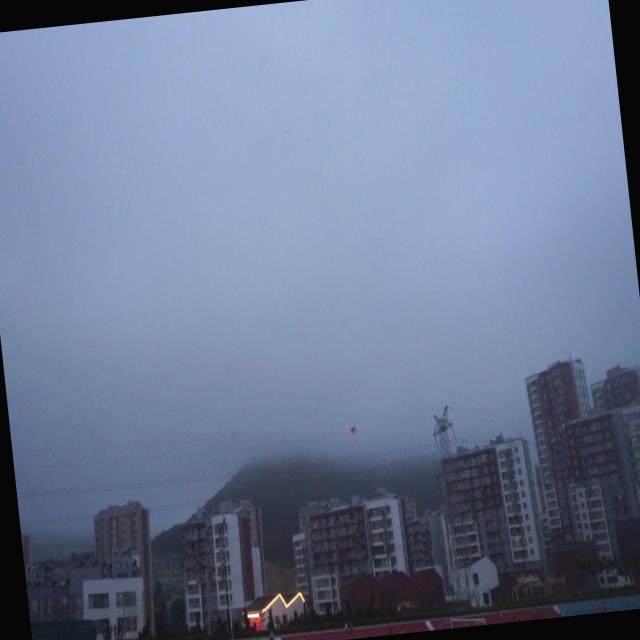drone: (345, 419, 361, 436)
